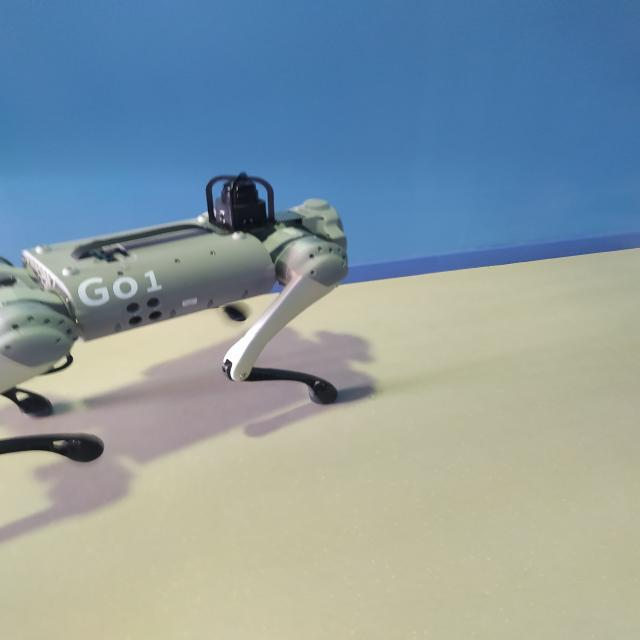unitree-go1-robot: (0, 175, 349, 470)
